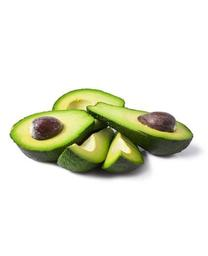avocado: (86, 100, 194, 157), (10, 109, 97, 164), (51, 88, 126, 134)
